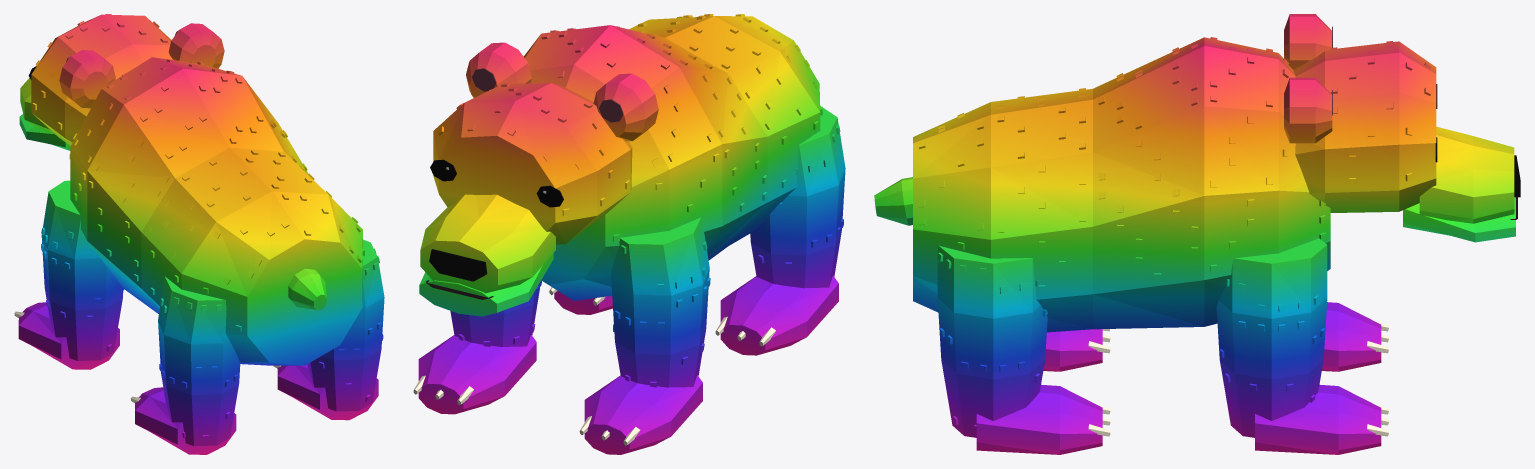
Rendered from Bear.fbx.
The picture shows the model from 3 angles, left to right: view 1: azimuth 30°, elevation 25°; view 2: azimuth 150°, elevation 25°; view 3: azimuth 270°, elevation 25°; orthographic projection. The views are drawn at different scales.
Parts seen in each view (by area): view 1: Import3D_Core, Import3D_LegBL, Import3D_LegFL, Import3D_Head, Import3D_LegBR, Import3D_LegFLFoot, Import3D_LegBLFoot, Import3D_EarL, Import3D_LegBRFoot, Import3D_EarR, Import3D_Tail, Import3D_Jaw; view 2: Import3D_Core, Import3D_Head, Import3D_LegFL, Import3D_LegBL, Import3D_LegBLFoot, Import3D_LegFRFoot, Import3D_LegFLFoot, Import3D_EarL, Import3D_Jaw, Import3D_LegFR, Import3D_EarR, Import3D_LegBRFoot (+2 smaller); view 3: Import3D_Core, Import3D_Head, Import3D_LegFR, Import3D_LegBR, Import3D_LegBRFoot, Import3D_LegFRFoot, Import3D_LegFLFoot, Import3D_EarR, Import3D_LegBLFoot, Import3D_Jaw, Import3D_EarL, Import3D_Tail.
Boxes of the visible parts, x1,y1,x2,y2 form: Import3D_Core: (69,57,364,365); Import3D_LegBL: (158,276,240,446); Import3D_LegFL: (41,180,124,360); Import3D_Head: (20,14,172,145); Import3D_LegBR: (307,239,384,411); Import3D_LegFLFoot: (14,302,119,369); Import3D_LegBLFoot: (130,387,236,454); Import3D_EarL: (59,50,115,108); Import3D_LegBRFoot: (273,364,378,420); Import3D_EarR: (168,23,224,68); Import3D_Tail: (288,268,326,310); Import3D_Jaw: (19,114,70,150); Import3D_Core: (523,14,822,300); Import3D_Head: (420,83,632,293); Import3D_LegFL: (611,217,710,387); Import3D_LegBL: (750,106,845,288); Import3D_LegBLFoot: (715,275,838,355); Import3D_LegFRFoot: (413,334,536,414); Import3D_LegFLFoot: (579,375,702,454); Import3D_EarL: (593,73,658,141); Import3D_Jaw: (419,253,553,316); Import3D_LegFR: (450,280,541,346); Import3D_EarR: (466,42,531,97); Import3D_LegBRFoot: (549,287,612,314); Import3D_Core: (913,37,1330,332); Import3D_Head: (1293,41,1520,223); Import3D_LegFR: (1216,238,1327,437); Import3D_LegBR: (937,245,1047,437); Import3D_LegBRFoot: (976,384,1110,454); Import3D_LegFRFoot: (1255,384,1389,454); Import3D_LegFLFoot: (1322,302,1389,371); Import3D_EarR: (1284,77,1332,143); Import3D_LegBLFoot: (1043,329,1110,371); Import3D_Jaw: (1403,197,1517,242); Import3D_EarL: (1284,14,1332,69); Import3D_Tail: (874,177,912,225).
Bounding box in the file's own units: 161 × 213 × 348.
Materials: 1 (1 with a texture image).
